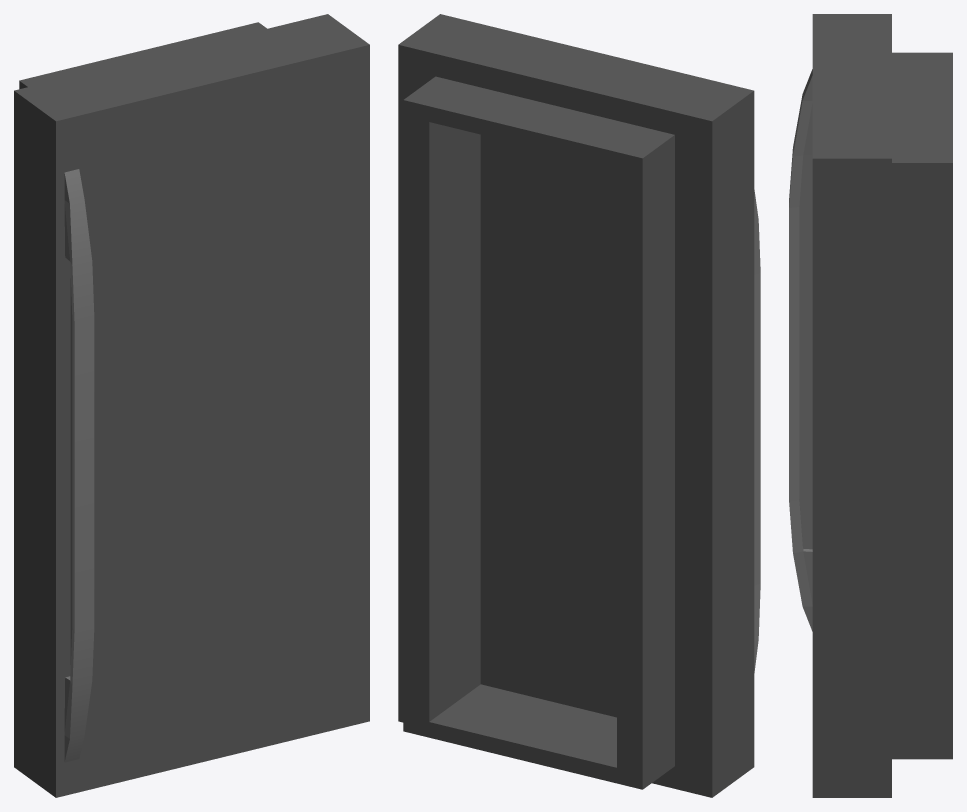
The model's file is Itr_Obj_Fridge1_Top_Door_Right_06.FBX.
3 renders of one model, left to right at view 1: azimuth 30°, elevation 25°; view 2: azimuth 150°, elevation 25°; view 3: azimuth 270°, elevation 25°, orthographic. The views are drawn at different scales.
Visible parts, largest first — view 1: Itr_Obj_Fridge1_Top_Door_Right_0; view 2: Itr_Obj_Fridge1_Top_Door_Right_0; view 3: Itr_Obj_Fridge1_Top_Door_Right_0.
Part boxes in pixels (x1,y1,x2,y2): Itr_Obj_Fridge1_Top_Door_Right_0: (14, 14, 369, 797); Itr_Obj_Fridge1_Top_Door_Right_0: (398, 14, 760, 797); Itr_Obj_Fridge1_Top_Door_Right_0: (789, 14, 952, 797).
Bounding box in the file's own units: 22.45 × 46.23 × 10.74.
